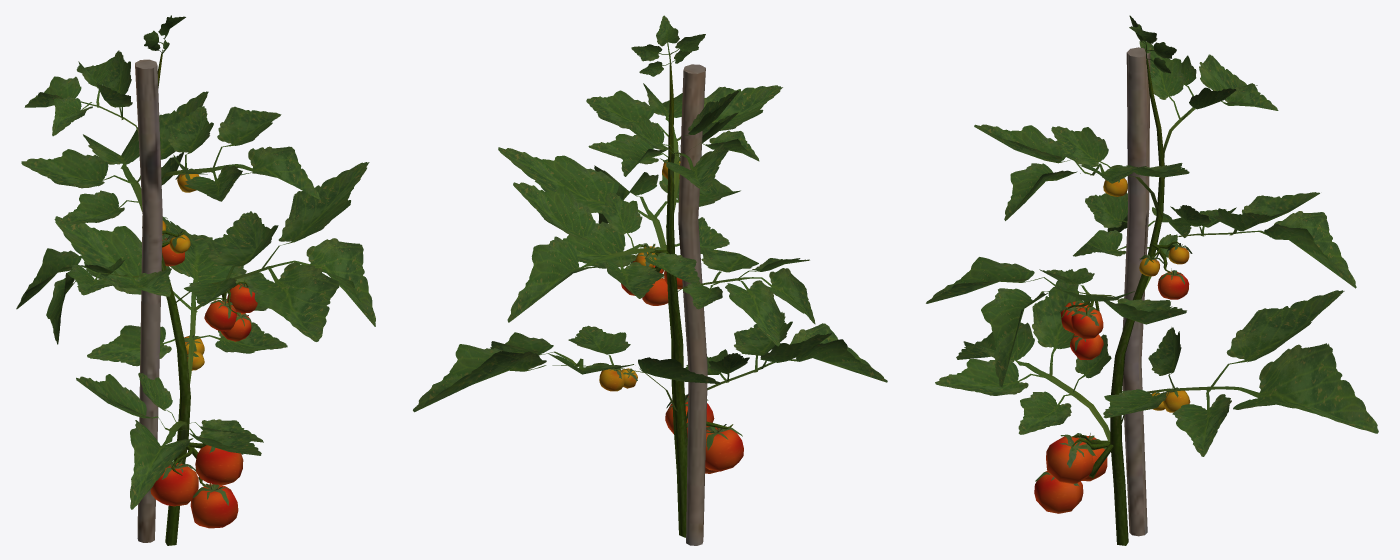
Rendered from cargo_tomato.glb.
3 views of the same model, side by side, from view 1: azimuth 30°, elevation 25°; view 2: azimuth 150°, elevation 25°; view 3: azimuth 270°, elevation 25° (orthographic).
Parts seen in each view (by area): view 1: KB3D_MTM_PropCropTomatoes_A; view 2: KB3D_MTM_PropCropTomatoes_A; view 3: KB3D_MTM_PropCropTomatoes_A.
Boxes of the visible parts, x1,y1,x2,y2 form: KB3D_MTM_PropCropTomatoes_A: (16,15,375,545); KB3D_MTM_PropCropTomatoes_A: (413,15,887,545); KB3D_MTM_PropCropTomatoes_A: (926,15,1378,545).
Size of the model in its own units: 0.6097 by 0.9376 by 0.75.
Materials: 2 (2 with a texture image).
